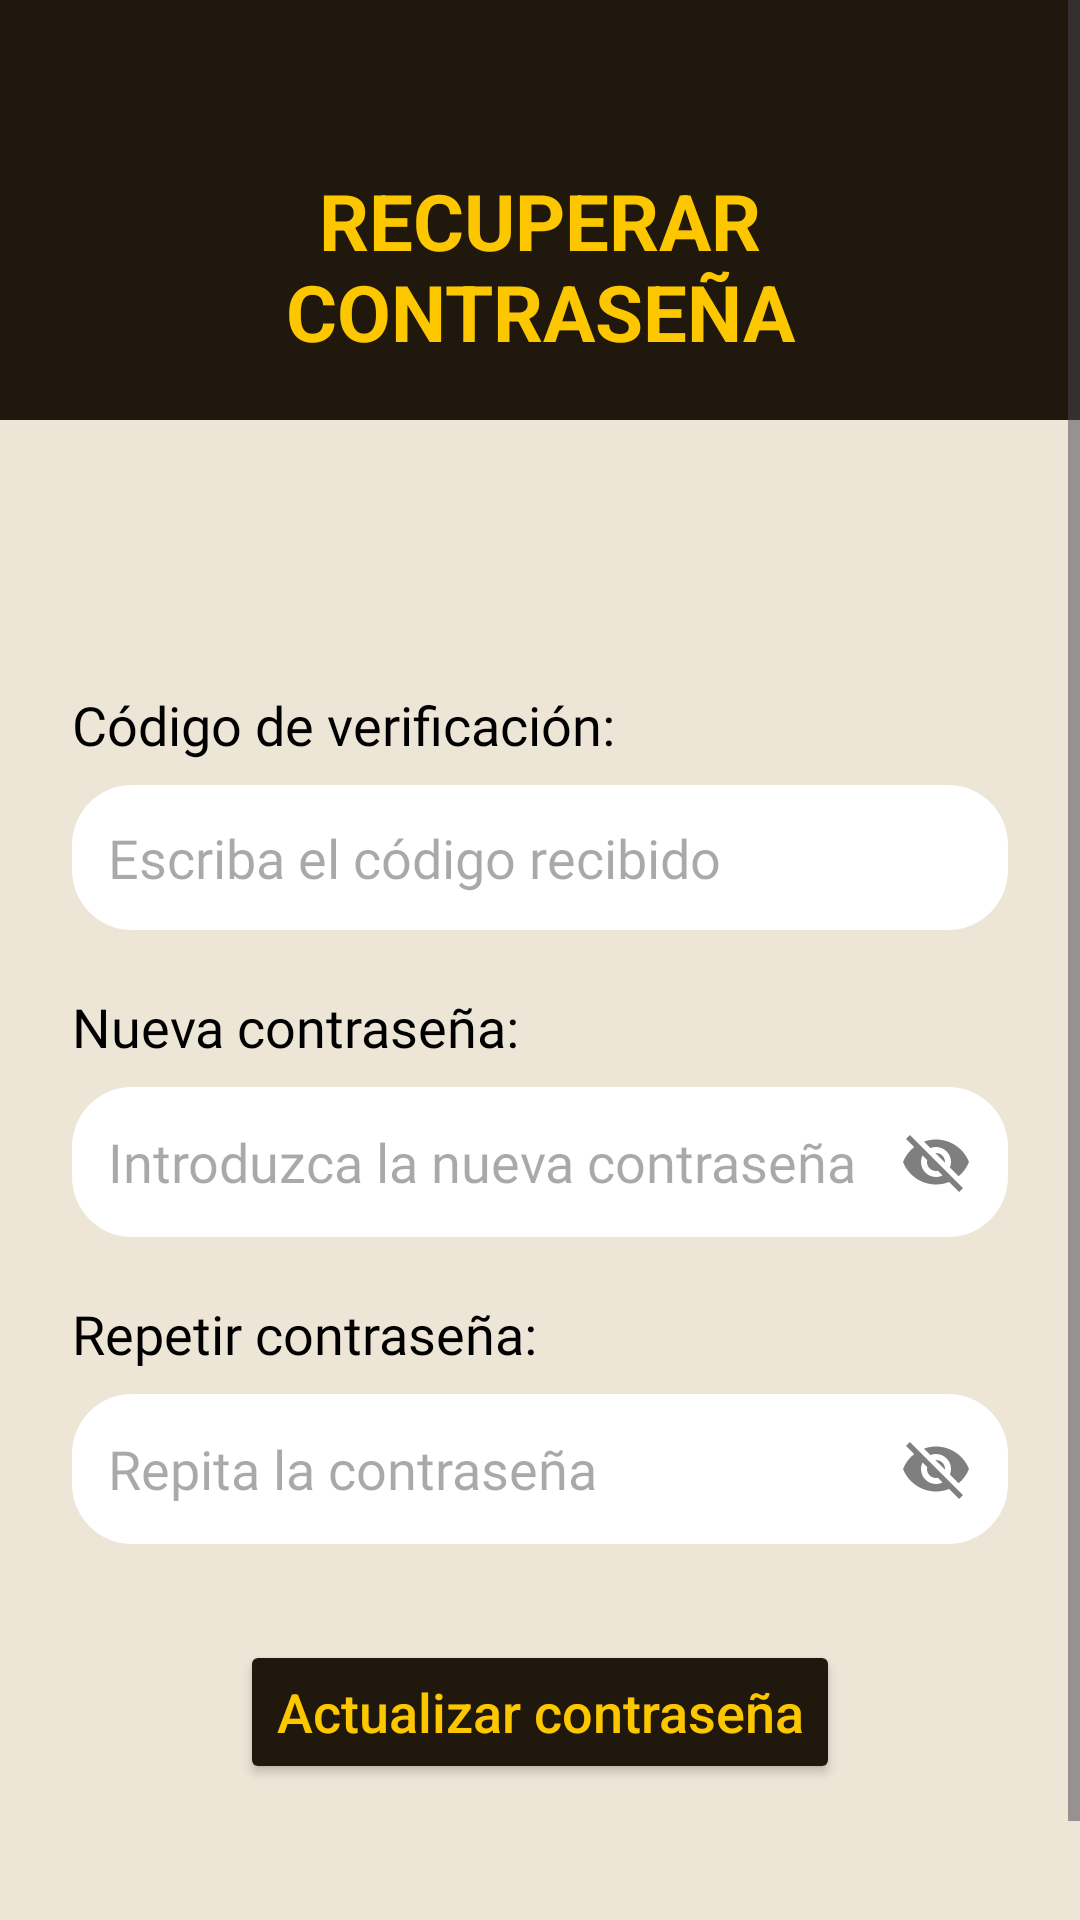

Point at icon controls on the screen. Image size 1080w x 1920h, points as point (x, y).
visibility off: point (936, 1162), point (936, 1469)
